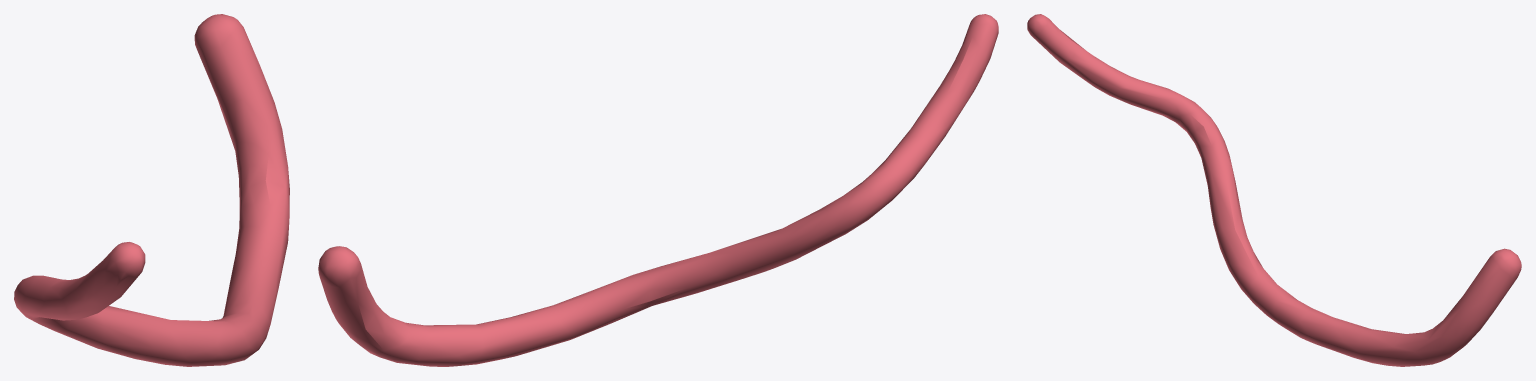
File: fma4714_fj2731.glb
The picture shows the model from 3 angles, left to right: view 1: azimuth 30°, elevation 25°; view 2: azimuth 150°, elevation 25°; view 3: azimuth 270°, elevation 25°; orthographic projection. The views are drawn at different scales.
Parts seen in each view (by area): view 1: FMA4714_FJ2731; view 2: FMA4714_FJ2731; view 3: FMA4714_FJ2731.
Boxes of the visible parts, x1,y1,x2,y2 form: FMA4714_FJ2731: (14, 14, 289, 366); FMA4714_FJ2731: (318, 14, 998, 366); FMA4714_FJ2731: (1027, 14, 1521, 366).
Bounding box in the file's own units: 0.0263 × 0.0172 × 0.0346.
